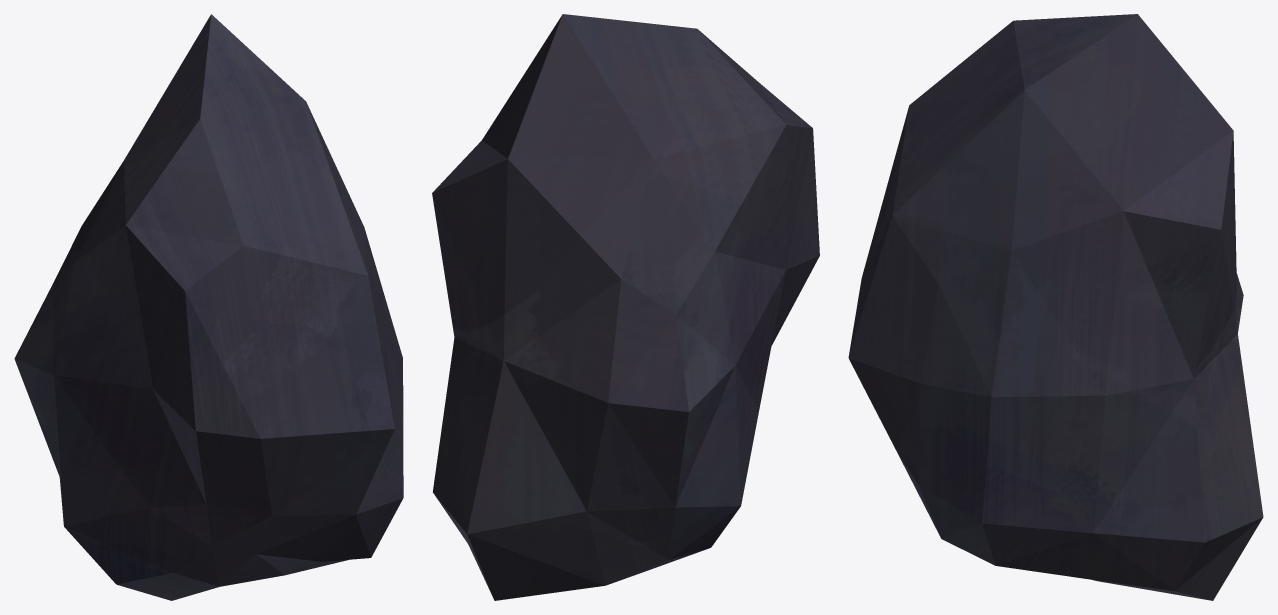
Rendered from Rock09.fbx.
3 renders of one model, left to right at view 1: azimuth 30°, elevation 25°; view 2: azimuth 150°, elevation 25°; view 3: azimuth 270°, elevation 25°, orthographic.
Visible parts, largest first — view 1: Rock09; view 2: Rock09; view 3: Rock09.
Part boxes in pixels (left/top/right/bottom): Rock09: left=14, top=14, right=403, bottom=600; Rock09: left=432, top=14, right=819, bottom=600; Rock09: left=848, top=14, right=1263, bottom=600.
Bounding box in the file's own units: 0.59 × 1.12 × 0.7376.
Materials: 1 (1 with a texture image).
